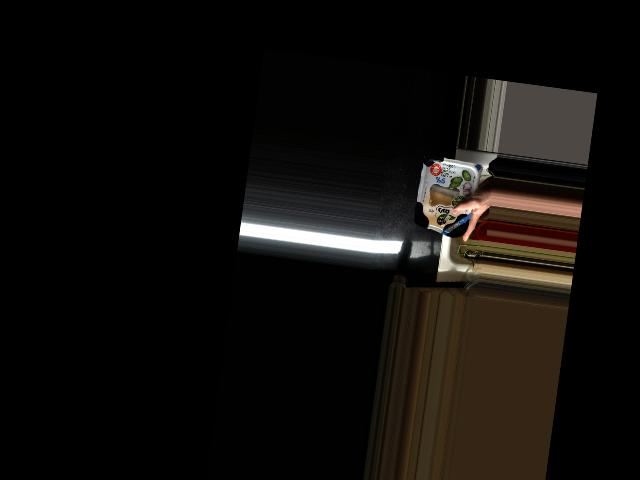cheese: (412, 157, 482, 240)
